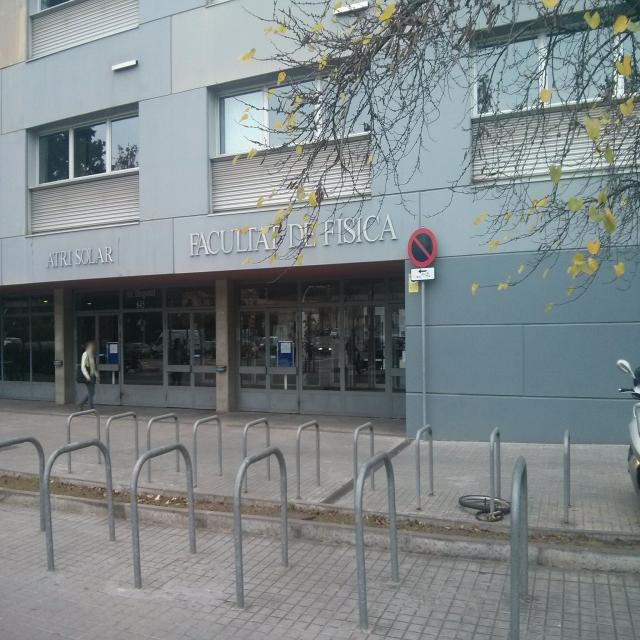forb_stopping: (410, 232, 433, 263)
